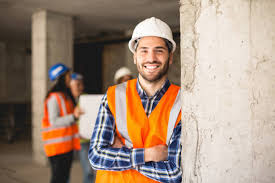hard hat: (128, 17, 177, 53), (48, 63, 71, 80), (114, 66, 133, 83)
high-vis: (95, 81, 181, 178), (43, 92, 81, 156)
